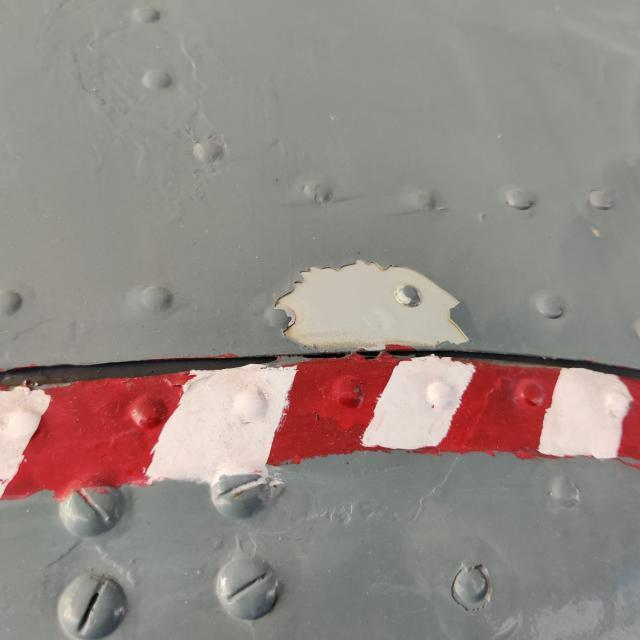Paint-off: (273, 261, 470, 352)
